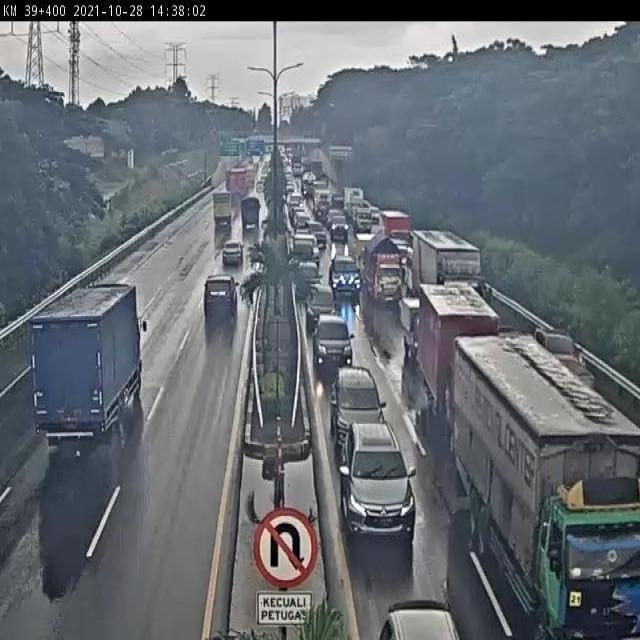Car: (336, 421, 419, 542), (329, 365, 389, 453), (375, 597, 462, 640), (312, 311, 356, 374), (533, 323, 588, 368), (303, 282, 338, 333), (202, 272, 240, 312), (328, 253, 362, 297), (293, 260, 323, 291), (222, 239, 243, 267), (329, 214, 349, 242), (369, 205, 381, 225), (255, 180, 265, 194)
Truck: (450, 331, 640, 639), (29, 280, 149, 448), (415, 280, 501, 416), (408, 228, 487, 299), (364, 228, 403, 305), (398, 296, 424, 359), (380, 208, 413, 246), (354, 231, 377, 277), (212, 190, 233, 225), (349, 207, 373, 237), (240, 196, 261, 230), (228, 168, 246, 196), (343, 186, 365, 208)
